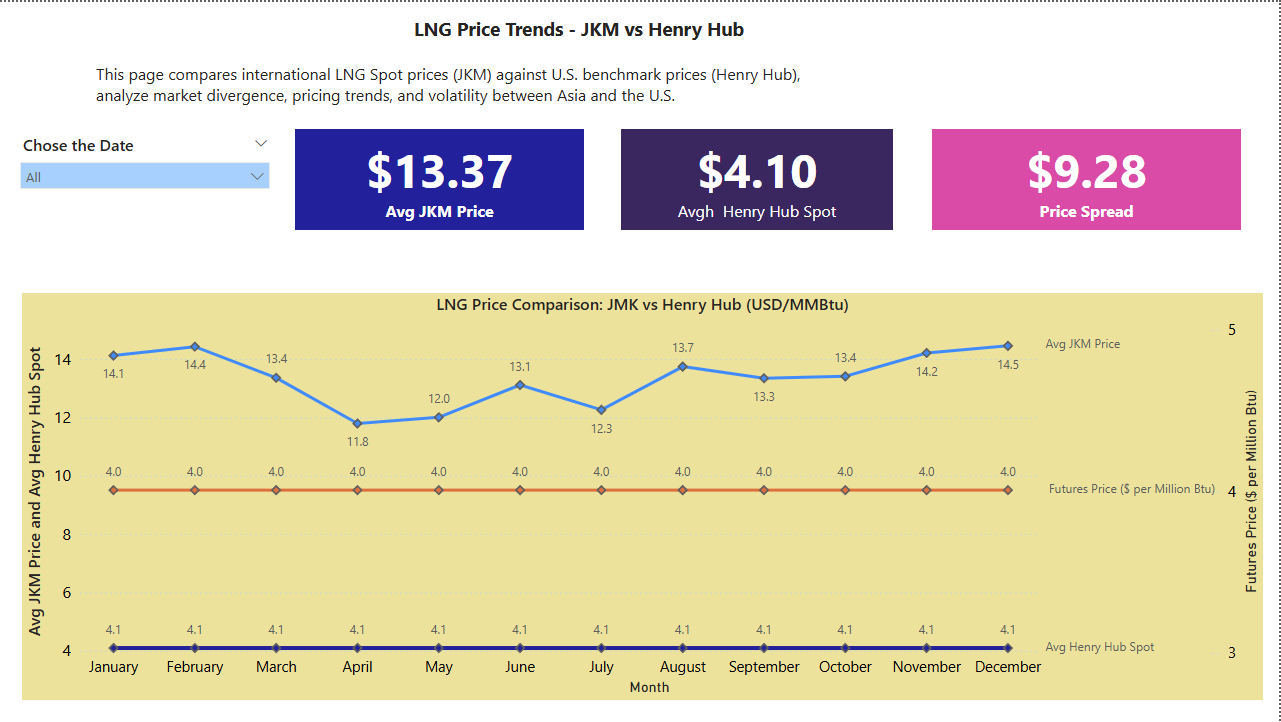

What the dashboard file says about the page in this screenshot:
{"tool":"powerbi","page":{"name":"Page 2: LNG Price Analysis Spot vs Futures","canvas":[1280,720],"ordinal":1},"visuals":[{"type":"textbox","box":[410.5,8.8,348.2,46.7],"z":0},{"type":"textbox","box":[92.2,55.5,746.9,59.1],"z":1000},{"type":"lineChart","title":"LNG Price Comparison: JMK vs Henry Hub (USD/MMBtu)","fields":{"Category":["JKM_Prices.Date.Variation.Date Hierarchy.Month"],"Y":["JKM_Prices.Avg_JKM_Price","JKM_Prices.Avgh_HenryHub_Spot"],"Y2":["Avg(HenryHub_Future_Price.Natural Gas Futures Contract 1 (Dollars per Million Btu))"]},"box":[23.3,291,1241.2,406.6],"z":2000},{"type":"card","fields":{"Values":["JKM_Prices.Avg_JKM_Price"]},"box":[296,127,289,101],"z":3000},{"type":"card","fields":{"Values":["JKM_Prices.Avgh_HenryHub_Spot"]},"box":[622,127,272,101],"z":4000},{"type":"card","fields":{"Values":["HenryHub_Spot_Price.Price_Spread"]},"box":[933,127,309,101],"z":5000},{"type":"slicer","fields":{"Values":["HenryHub_Spot_Price.Date"]},"box":[11,127,270,101],"z":6000}]}

Visuals, with their boxes in screenshot pixels (x1, y1, x2, y2), scaled from the page's 1280x720 canvas onto the 1281x722 screenshot:
textbox: Rect(411, 9, 759, 56)
textbox: Rect(92, 56, 840, 115)
"LNG Price Comparison: JMK vs Henry Hub (USD/MMBtu)" lineChart: Rect(23, 292, 1265, 700)
card - JKM_Prices.Avg_JKM_Price: Rect(296, 127, 585, 229)
card - JKM_Prices.Avgh_HenryHub_Spot: Rect(622, 127, 895, 229)
card - HenryHub_Spot_Price.Price_Spread: Rect(934, 127, 1243, 229)
slicer - HenryHub_Spot_Price.Date: Rect(11, 127, 281, 229)
